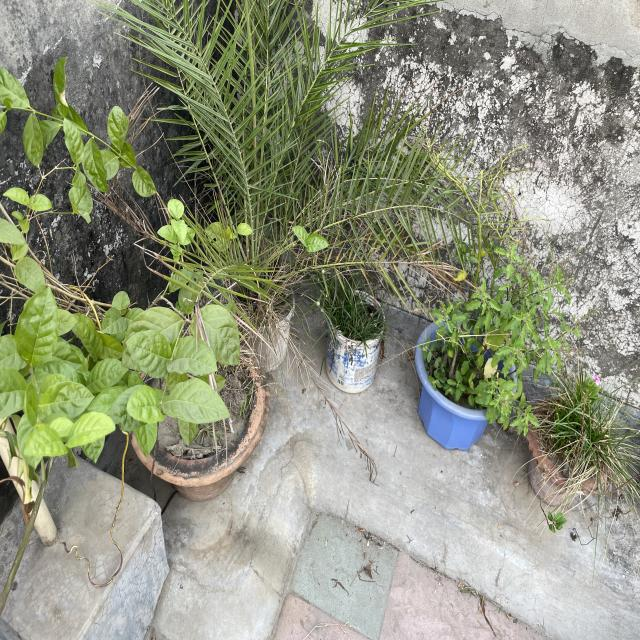Breeding Place: (114, 314, 273, 498), (418, 307, 510, 449), (529, 395, 605, 509), (326, 289, 384, 392)
